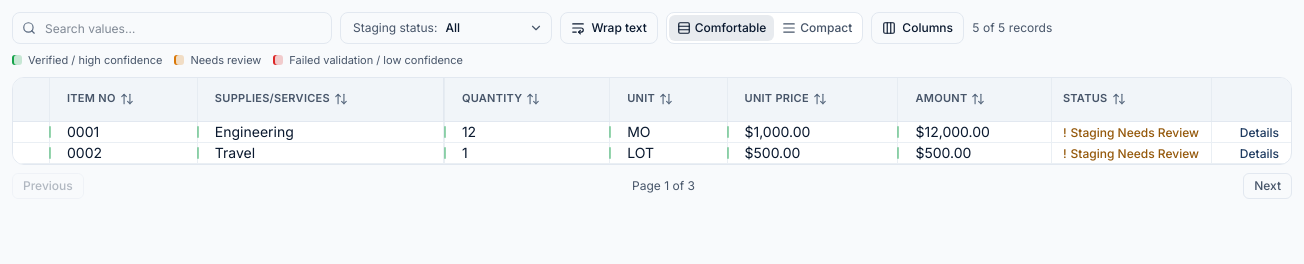
Test: StagingDatasetTable selection (contract CLINs) › Select all results follows the review filter
Select "Needs Review" in the dropdown named "Review status": [494, 28] box 441,13 -> 547,43
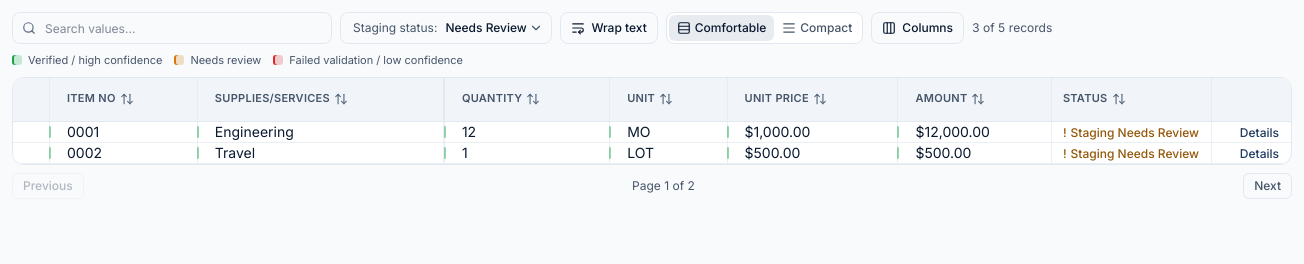
Click the cell "0001": [123, 132] box 49,122 -> 197,142
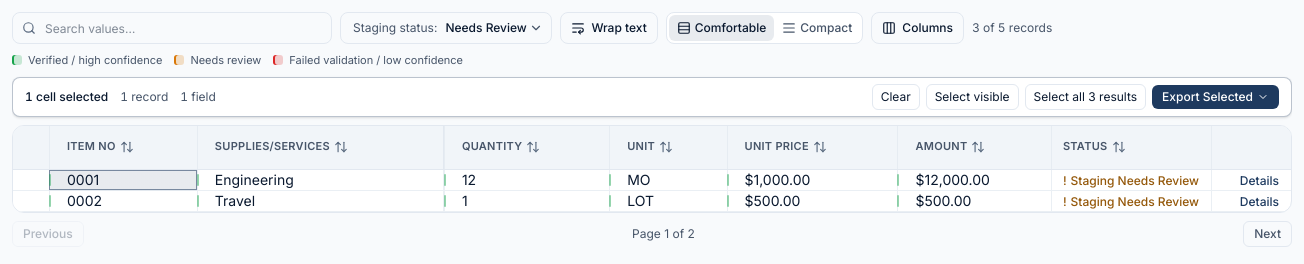
Click the button "Select all 3 results": [1085, 96] box 1025,84 -> 1146,110
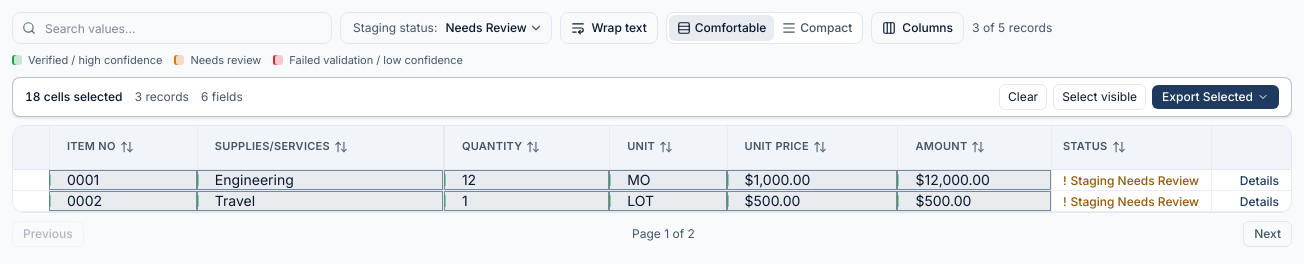
Expected: the element with test id "selection-toolbar" reads "18 cells selected 3 records 6 fields Clear Select visible Export Selected", 12,76 -> 1292,116
